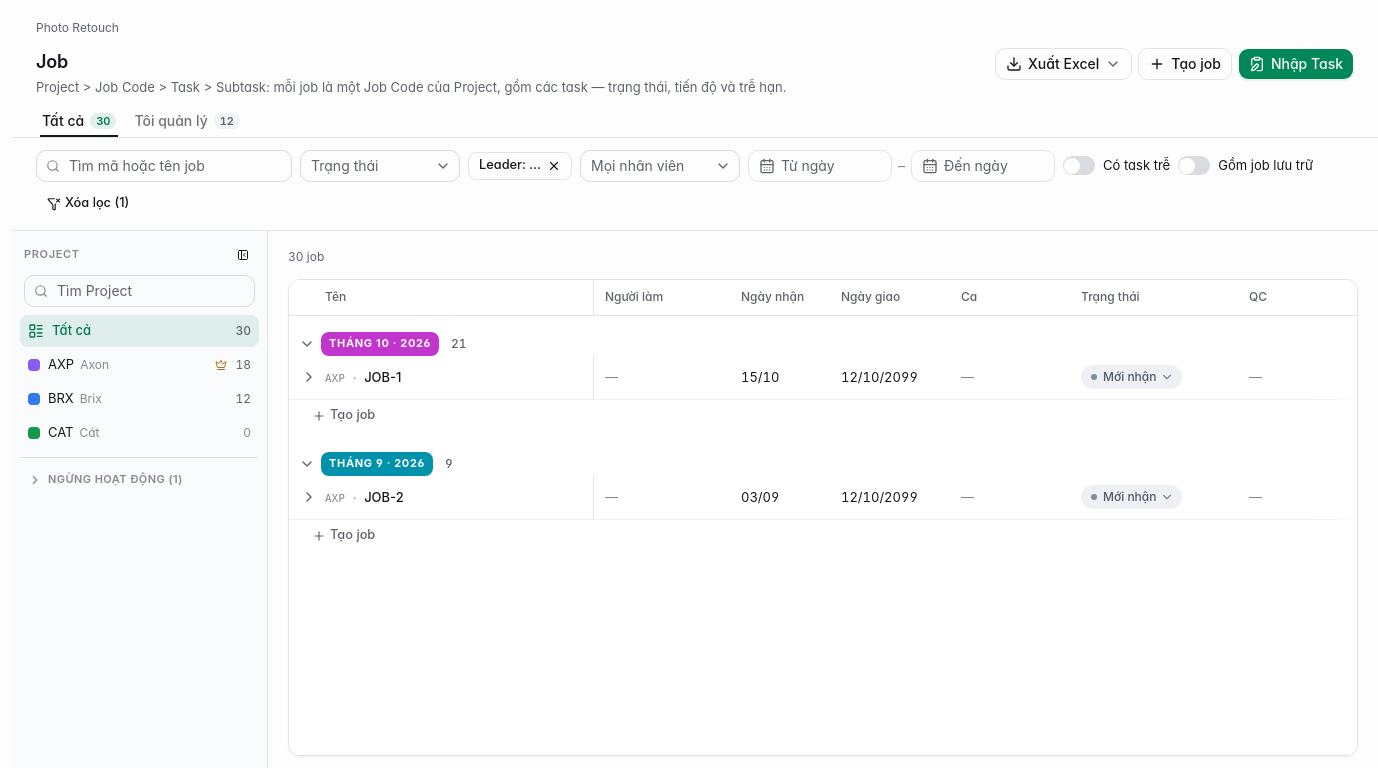
it: /production/jobs — List view (PD-067) › no Leader picker; a ?leader= link still filters, as a chip that removes it (owner, 2026-10-20)
Click the button with aria-label "Bỏ lọc theo Leader": {"x": 520, "y": 166} [468, 152, 572, 180]
(page scrolled)
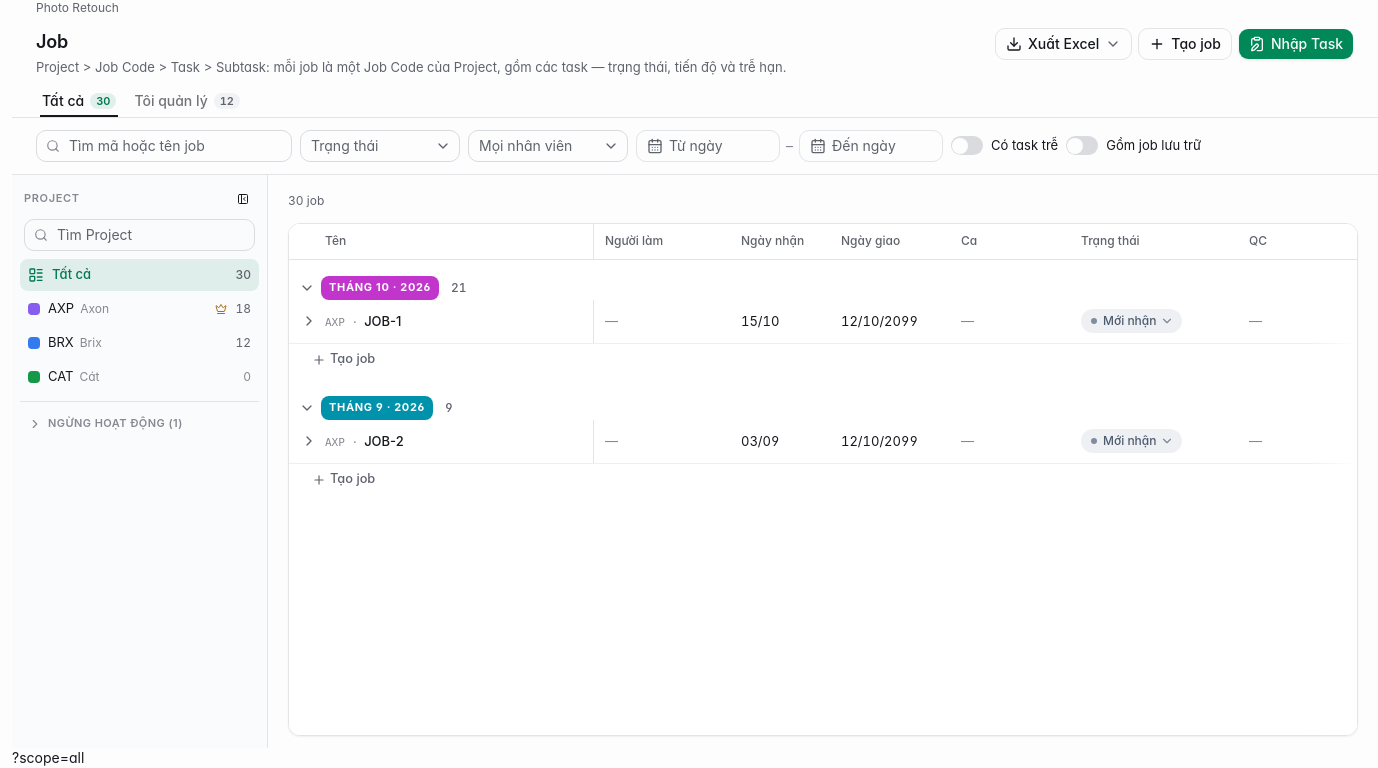
Now the text with test id "location" reads "?scope=all", box [12, 749, 84, 766]
